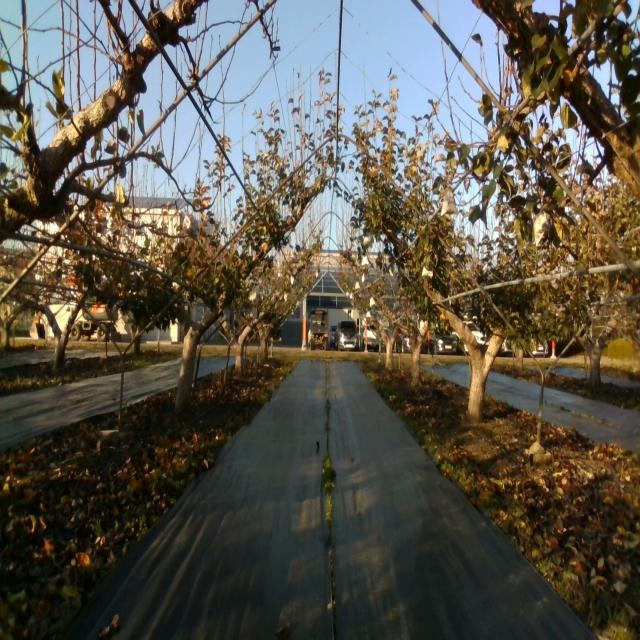pearbags: (533, 212, 551, 248), (181, 212, 198, 242), (441, 191, 457, 219)
